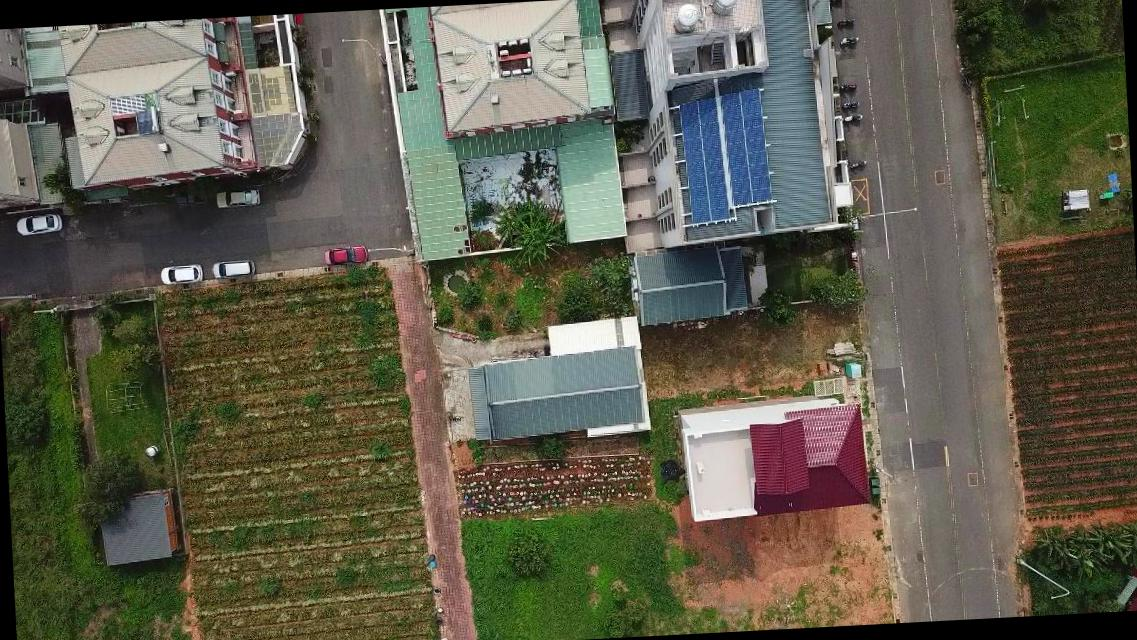vehicle: (13, 210, 62, 237), (211, 186, 262, 210), (157, 261, 204, 285), (210, 256, 257, 280), (323, 244, 370, 266)
